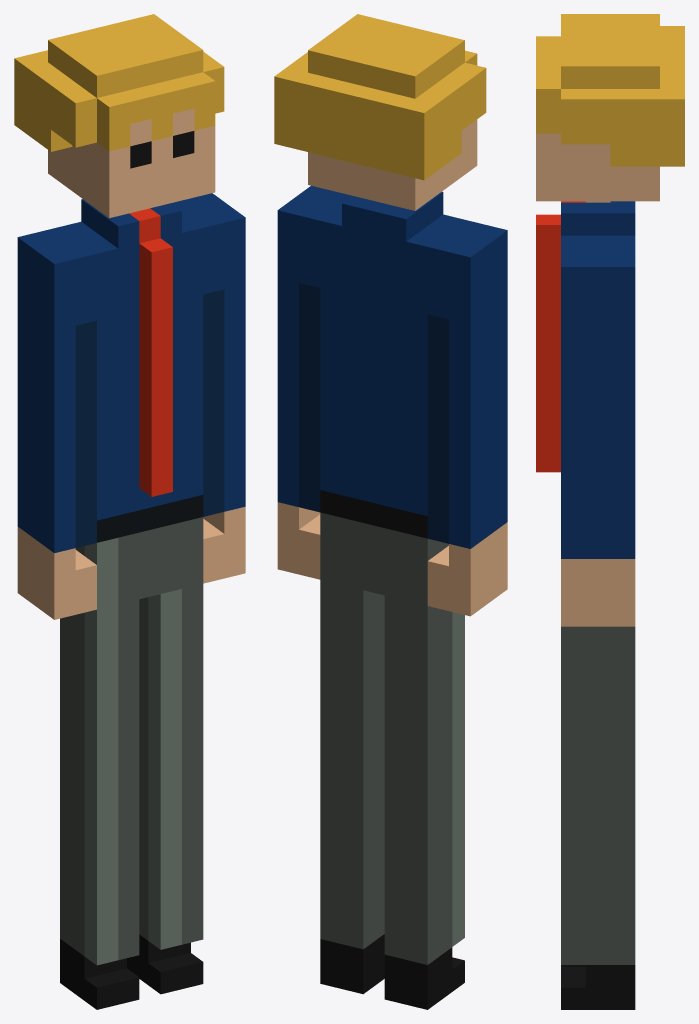
File: Tony_Ethn1_Standing.obj
The picture shows the model from 3 angles, left to right: view 1: azimuth 30°, elevation 25°; view 2: azimuth 150°, elevation 25°; view 3: azimuth 270°, elevation 25°; orthographic projection.
Visible parts, largest first — view 1: Tony_Ethn1_Standing; view 2: Tony_Ethn1_Standing; view 3: Tony_Ethn1_Standing.
Boxes of the visible parts, <box> form: Tony_Ethn1_Standing: <box>14,14,245,1009</box>; Tony_Ethn1_Standing: <box>274,14,507,1009</box>; Tony_Ethn1_Standing: <box>536,14,684,1009</box>.
Size of the model in its own units: 9 by 42 by 6.
1 material, 1 textured.
